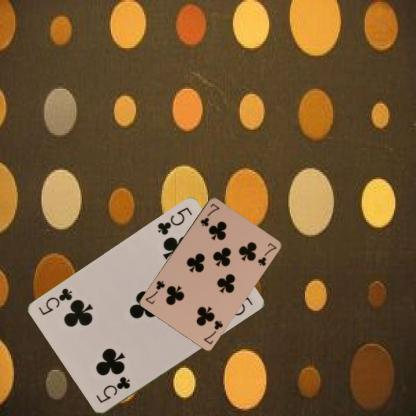5c: (154, 204, 194, 237), (93, 374, 132, 405)
7c: (201, 318, 224, 345), (198, 200, 220, 228)
